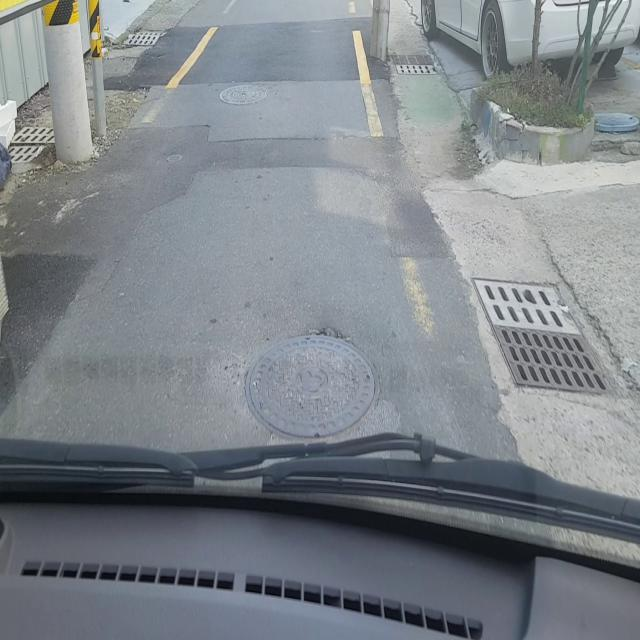Pothole: (242, 323, 382, 443)
